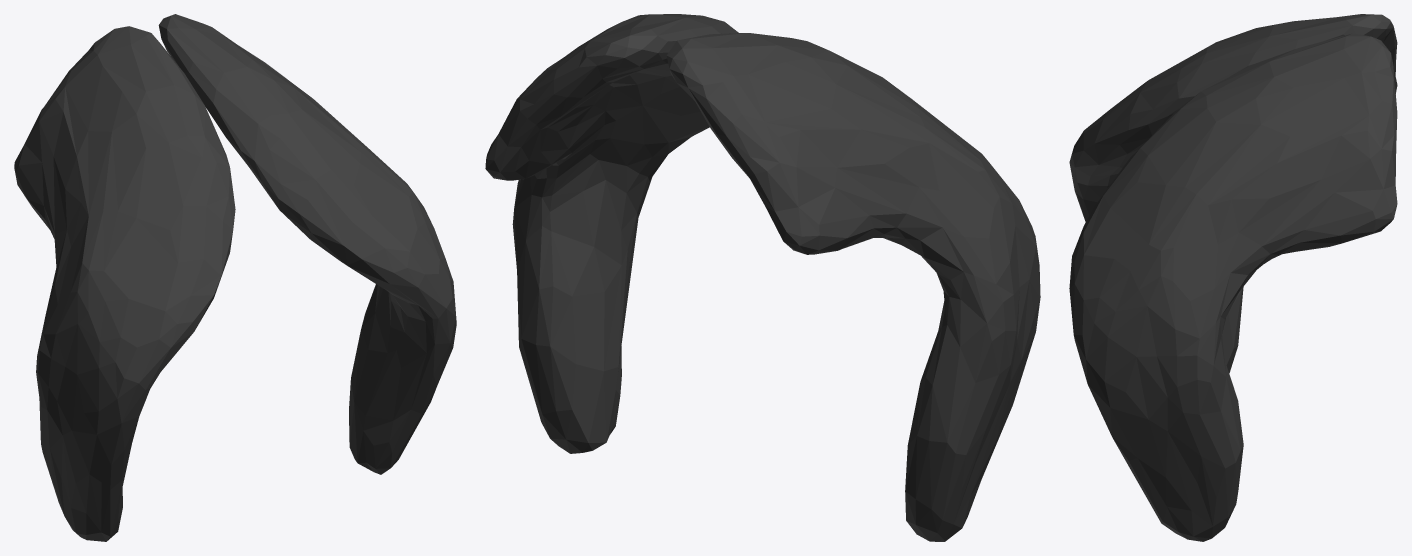
The model's file is m_temporalis.glb.
3 renders of one model, left to right at view 1: azimuth 30°, elevation 25°; view 2: azimuth 150°, elevation 25°; view 3: azimuth 270°, elevation 25°, orthographic. The views are drawn at different scales.
Parts seen in each view (by area): view 1: m_temporalis; view 2: m_temporalis; view 3: m_temporalis.
Part boxes in pixels (x1,y1,x2,y2): m_temporalis: (14, 14, 456, 541); m_temporalis: (485, 14, 1040, 541); m_temporalis: (1069, 14, 1397, 541).
Size of the model in its own units: 0.00282 by 0.0029 by 0.00196.
1 material, 1 textured.
